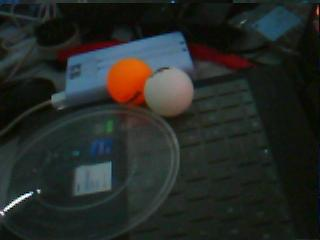oball: (108, 59, 145, 102)
